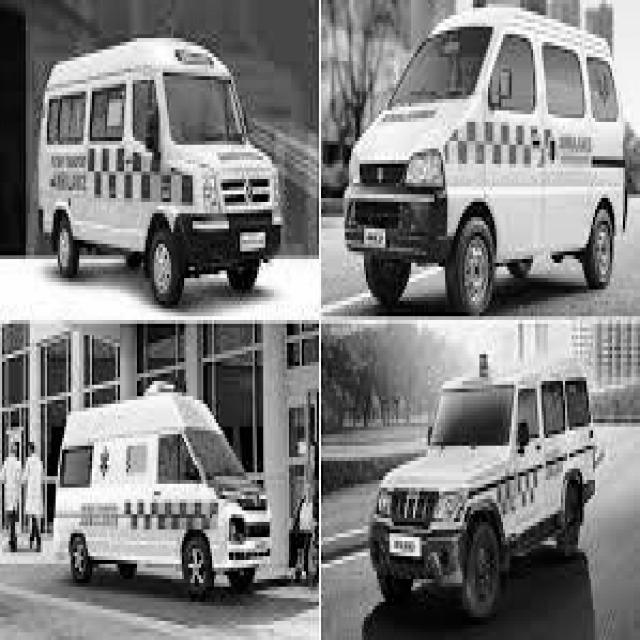Ambulance: (337, 6, 626, 295), (29, 38, 296, 309), (362, 343, 614, 617), (42, 392, 277, 598)
